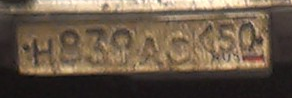character: (110, 24, 133, 66), (85, 24, 109, 64), (59, 26, 84, 64), (139, 35, 164, 68), (166, 32, 191, 64), (31, 35, 55, 66), (197, 22, 215, 56), (217, 23, 236, 55), (237, 22, 257, 51)
